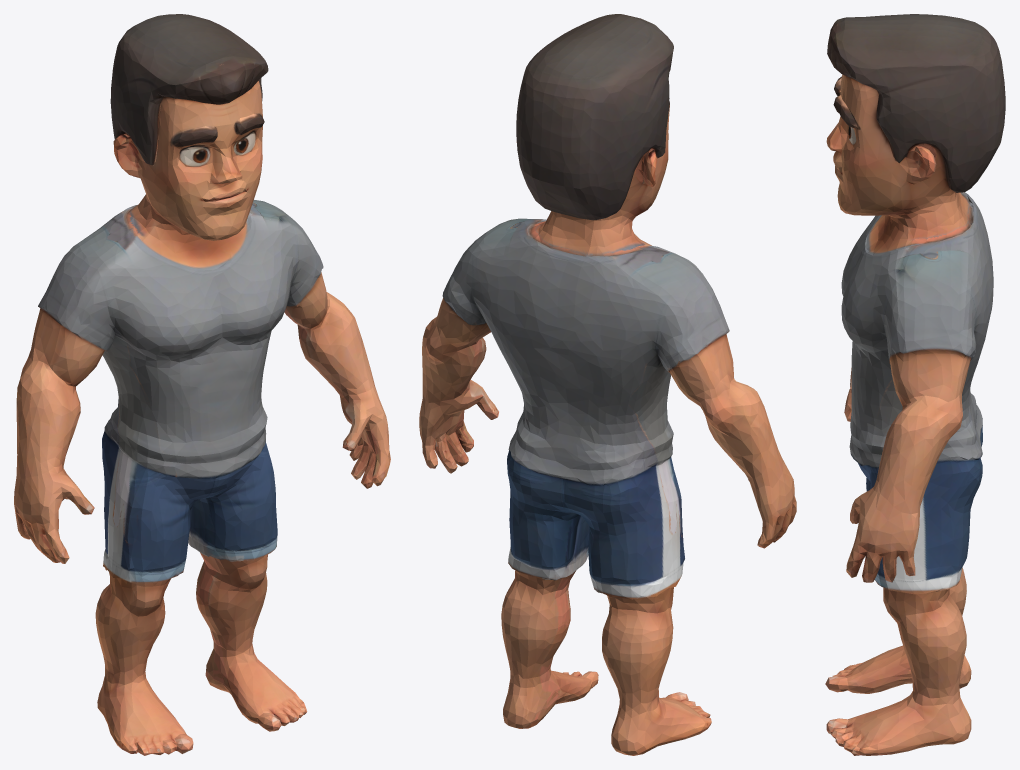
The model's file is Athletic_Animated_Cha_0326172252_texture.fbx.
3 views of the same model, side by side, from view 1: azimuth 30°, elevation 25°; view 2: azimuth 150°, elevation 25°; view 3: azimuth 270°, elevation 25° (orthographic).
Parts seen in each view (by area): view 1: temp; view 2: temp; view 3: temp.
Boxes of the visible parts, <box> form: temp: <box>14,14,390,755</box>; temp: <box>419,14,796,755</box>; temp: <box>825,14,1005,755</box>.
Size of the model in its own units: 110 by 200 by 47.34.
1 material, 1 textured.
